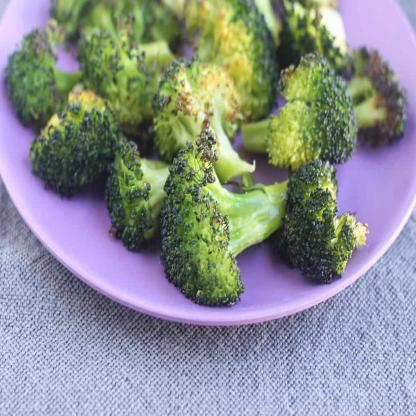broccoli: (2, 0, 409, 307)
